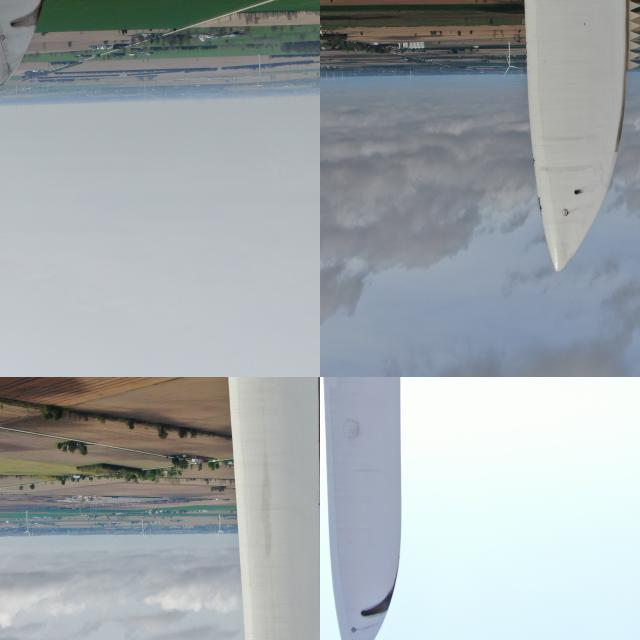damage: (358, 584, 398, 624), (7, 4, 42, 34), (534, 195, 546, 220), (531, 148, 539, 170), (573, 184, 583, 199)
